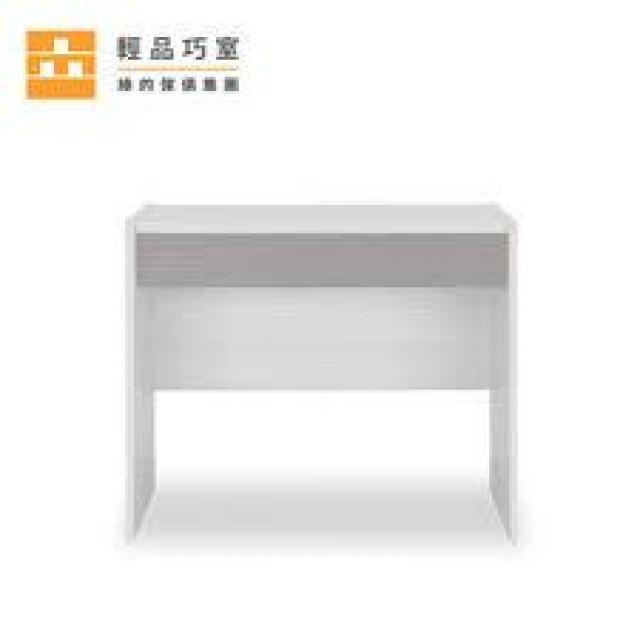table: (78, 162, 542, 549)
